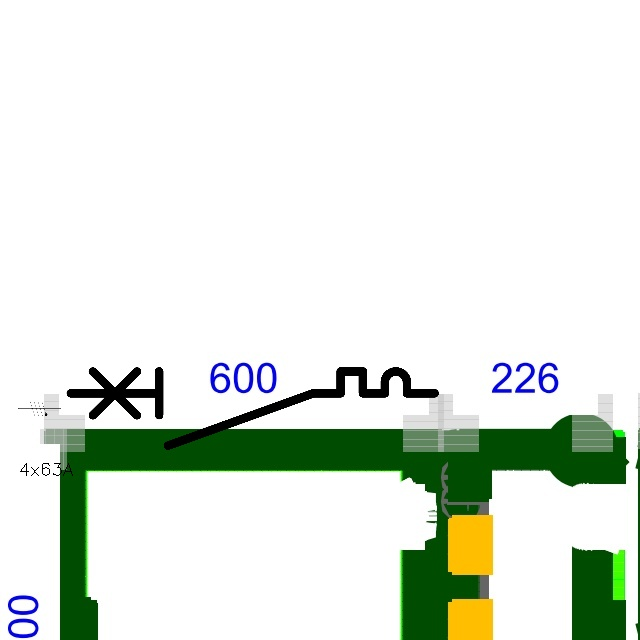interruptor_termomagnetico: (61, 362, 443, 455)
